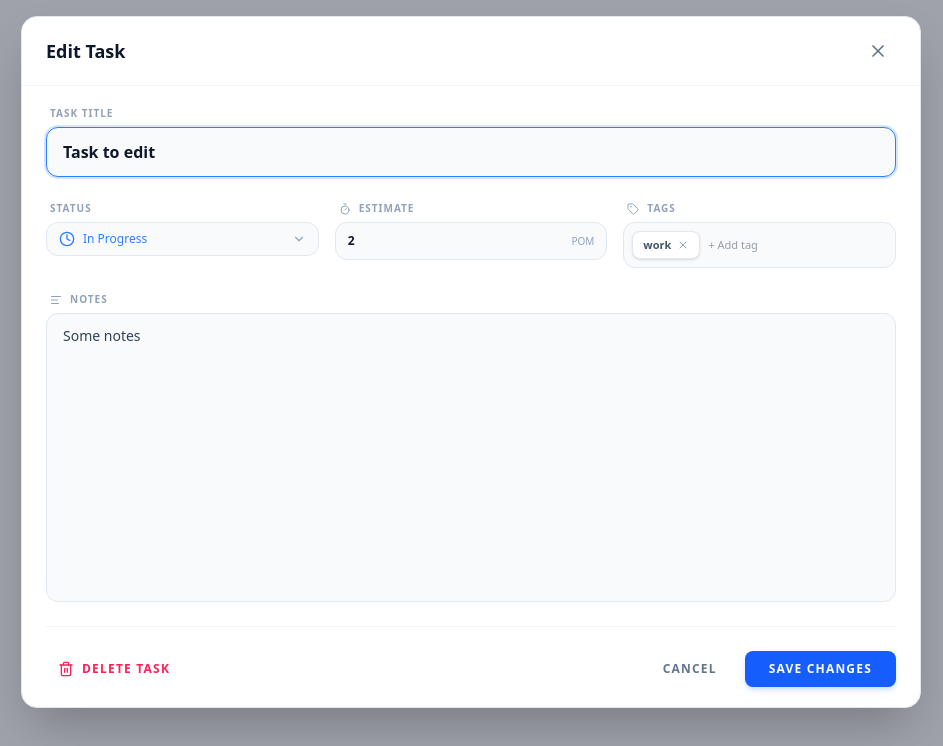
it: TaskDetailDialog › adds tag when typing and pressing Enter in tag input
The image size is (943, 746).
In the field with placeholder "+ Add tag": x=798, y=245 [708, 231, 887, 259], type "newtag"
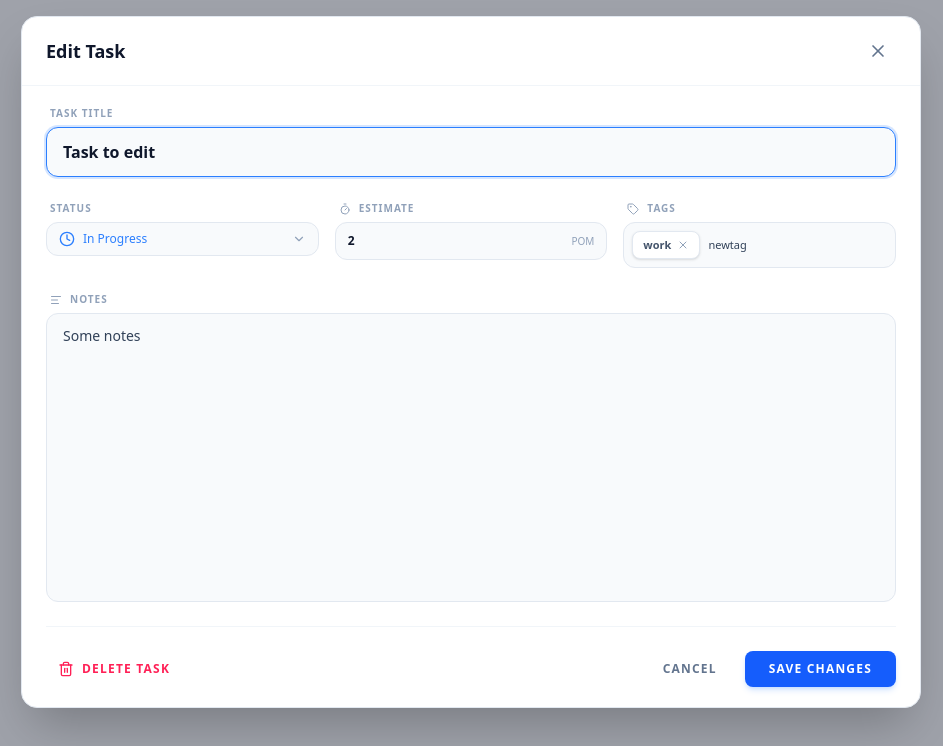
Press Enter in the field with placeholder "+ Add tag" next to "work", box [708, 231, 887, 259]
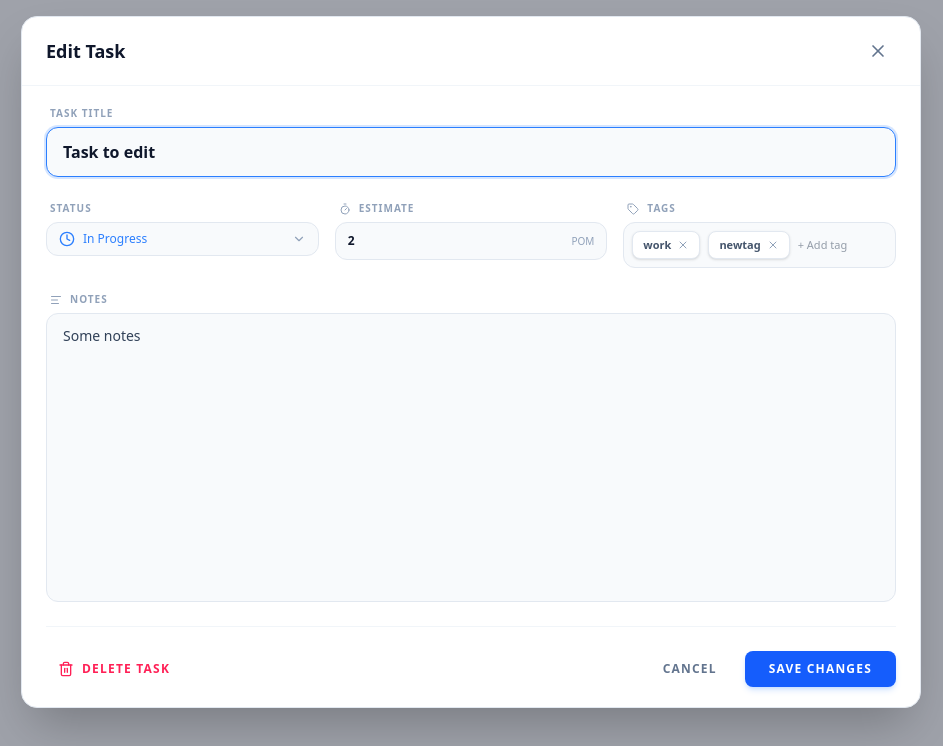
Result: the text "newtag" is shown at [708, 231, 790, 259]
